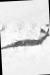I9: (3, 0, 48, 74)
